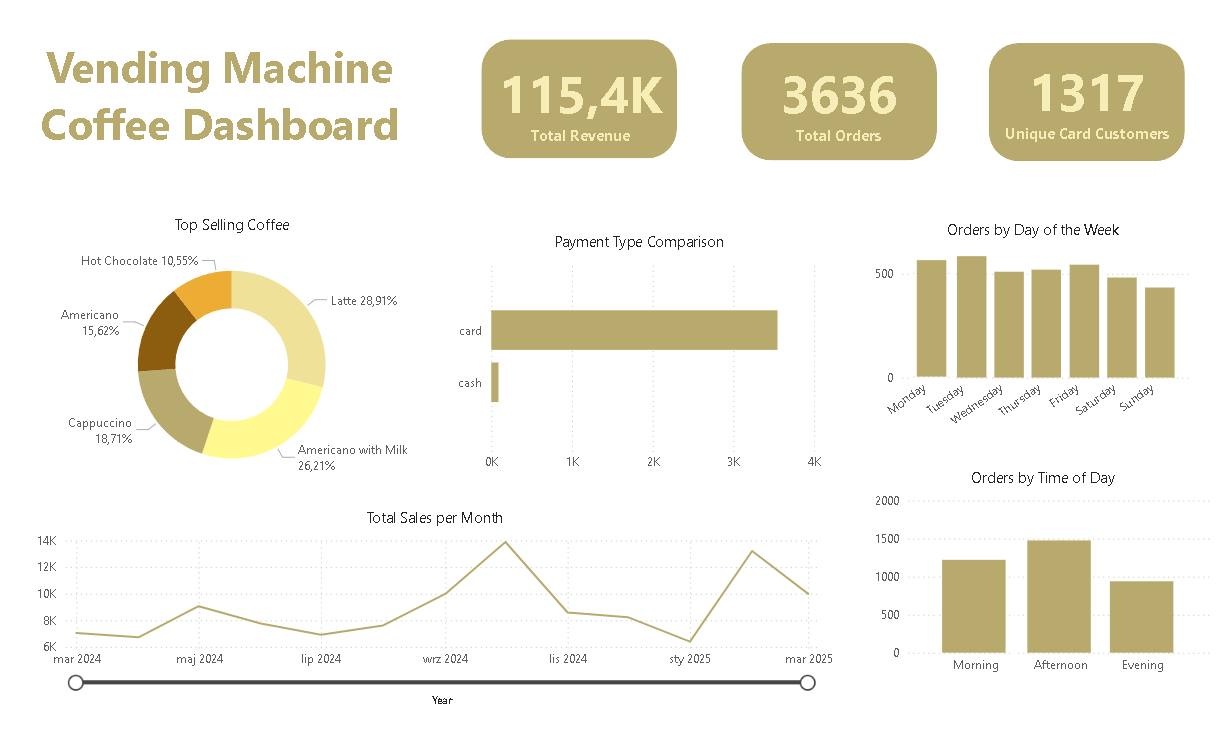

Layout of this report page (visuals, bound fields, positions):
{"tool":"powerbi","page":{"name":"Page 1","canvas":[1280,720],"ordinal":0},"visuals":[{"type":"shape","box":[506.6,26.6,195.8,119.2],"z":0,"group":"g1"},{"type":"donutChart","title":"Top Selling Coffee","fields":{"Category":["index_1.coffee_name"],"Y":["index_1.total money"]},"box":[55,201.2,403.8,281.2],"z":0},{"type":"shape","box":[766.4,29.8,195.8,117.5],"z":500,"group":"g1"},{"type":"shape","box":[1014.2,30.3,196.2,118.3],"z":1000,"group":"g1"},{"type":"lineChart","title":"Total Sales per Month","fields":{"Category":["index_1.Start of Month.Variation.Date Hierarchy.Year","index_1.Start of Month.Variation.Date Hierarchy.Month"],"Y":["index_1.total money"]},"box":[56.9,493.5,805,203.4],"z":1000},{"type":"group","id":"g1","title":"shapes KPI","box":[506.6,26.6,703.8,122],"z":2000},{"type":"card","title":"total sales","fields":{"Values":["index_1.total money"]},"box":[466.3,35.6,279.4,106.8],"z":3000},{"type":"card","title":"total orders","fields":{"Values":["index_1.total customers"]},"box":[763.5,35.6,201.1,106.8],"z":4000},{"type":"card","title":"total customers","fields":{"Values":["index_1.unique customers"]},"box":[1010.9,33.8,202.9,106.8],"z":5000},{"type":"clusteredBarChart","title":"Payment Type Comparison","fields":{"Y":["index_1.total orders"],"Category":["index_1.cash_type"]},"box":[477.5,217.5,373.8,250],"z":6000},{"type":"clusteredColumnChart","title":"Orders by Day of the Week","fields":{"Y":["index_1.total orders"],"Category":["index_1.Day Name"]},"box":[894.6,206.2,325.7,227.6],"z":7000},{"type":"clusteredColumnChart","title":"Orders by Time of Day","fields":{"Y":["index_1.total orders"],"Category":["index_1.Daytime"]},"box":[894.6,453.7,345.6,216.2],"z":8000},{"type":"textbox","box":[55.5,19.9,378.3,138],"z":9000}]}

Visuals, with their boxes on the page's 1280x720 design canvas (x1, y1, x2, y2). These are canvas units, not pixel positions in the 1232x729 screenshot, which may show the page scaled, cropped or inside an application window:
shape: Rect(507, 27, 702, 146)
"Top Selling Coffee" donutChart: Rect(55, 201, 459, 482)
shape: Rect(766, 30, 962, 147)
shape: Rect(1014, 30, 1210, 149)
"Total Sales per Month" lineChart: Rect(57, 494, 862, 697)
"shapes KPI" group: Rect(507, 27, 1210, 149)
"total sales" card: Rect(466, 36, 746, 142)
"total orders" card: Rect(764, 36, 965, 142)
"total customers" card: Rect(1011, 34, 1214, 141)
"Payment Type Comparison" clusteredBarChart: Rect(478, 218, 851, 468)
"Orders by Day of the Week" clusteredColumnChart: Rect(895, 206, 1220, 434)
"Orders by Time of Day" clusteredColumnChart: Rect(895, 454, 1240, 670)
textbox: Rect(56, 20, 434, 158)
